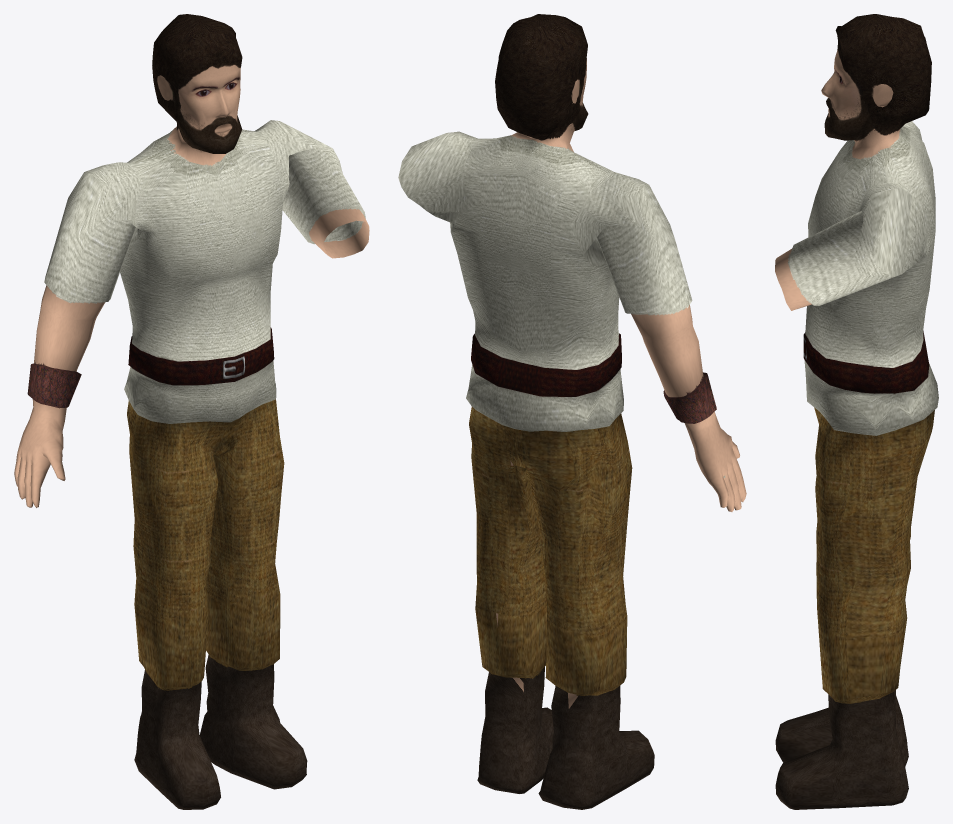
File: personaCu.obj
3 views of the same model, side by side, from view 1: azimuth 30°, elevation 25°; view 2: azimuth 150°, elevation 25°; view 3: azimuth 270°, elevation 25° (orthographic). The views are drawn at different scales.
Parts seen in each view (by area): view 1: persona:lumberJack; view 2: persona:lumberJack; view 3: persona:lumberJack.
Boxes of the visible parts, x1=… form: persona:lumberJack: x1=14, y1=14, x2=369, y2=809; persona:lumberJack: x1=398, y1=14, x2=746, y2=809; persona:lumberJack: x1=775, y1=14, x2=938, y2=809.
Size of the model in its own units: 0.8165 by 1.81 by 0.3527.
1 material, 1 textured.
